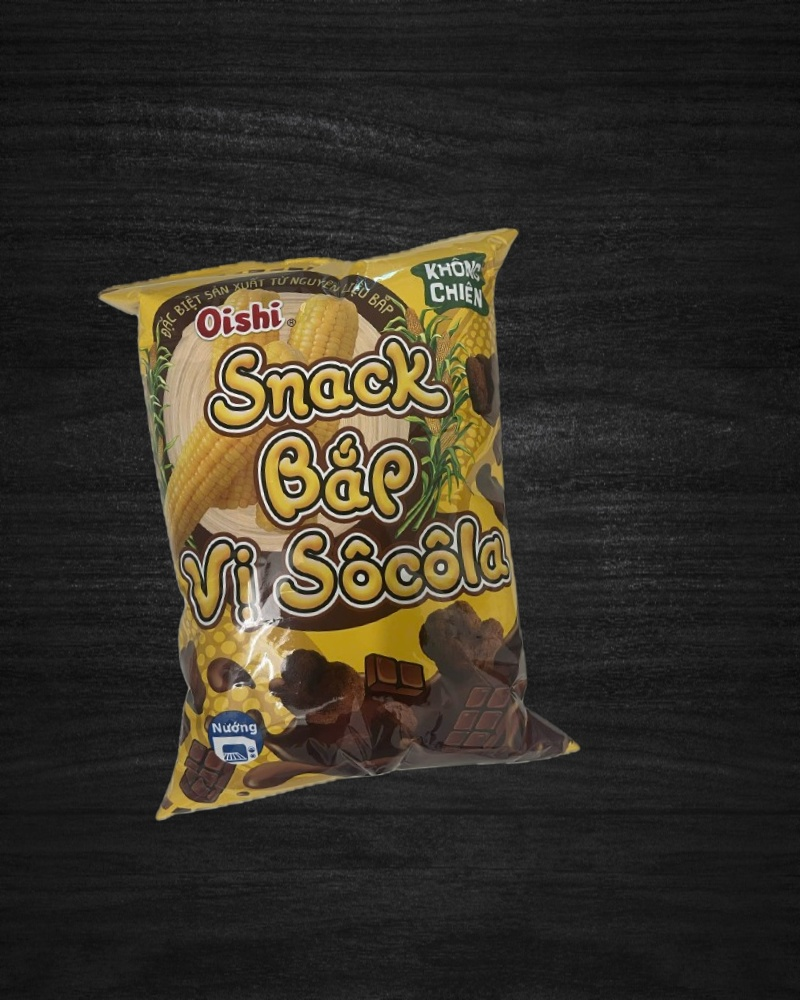Snack socola: (98, 229, 584, 810)
